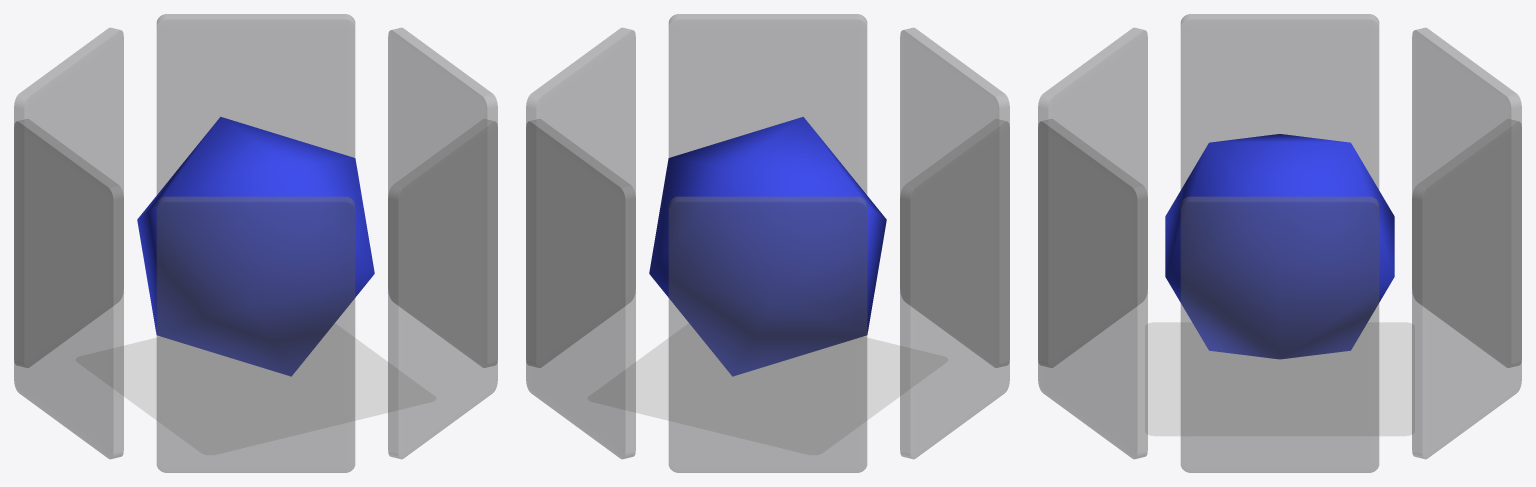
The picture shows the model from 3 angles, left to right: view 1: azimuth 30°, elevation 25°; view 2: azimuth 150°, elevation 25°; view 3: azimuth 270°, elevation 25°; orthographic projection.
Parts seen in each view (by area): view 1: Box 1 (×6), Polyhedron, Plane; view 2: Box 1 (×6), Polyhedron, Plane; view 3: Box 1 (×6), Polyhedron, Plane.
Boxes of the visible parts, bbox=[...] form: Box 1 (×6): bbox=[14, 14, 497, 472]; Polyhedron: bbox=[137, 116, 374, 376]; Plane: bbox=[75, 323, 436, 455]; Box 1 (×6): bbox=[526, 14, 1009, 472]; Polyhedron: bbox=[649, 116, 886, 376]; Plane: bbox=[587, 323, 948, 455]; Box 1 (×6): bbox=[1038, 14, 1521, 472]; Polyhedron: bbox=[1165, 134, 1394, 359]; Plane: bbox=[1145, 322, 1414, 436].
Size of the model in its own units: 0.1648 by 0.111 by 0.1792.
